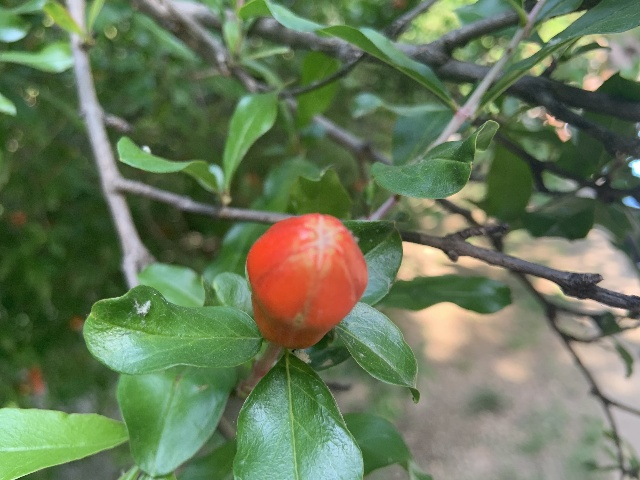bud: (246, 213, 368, 349)
